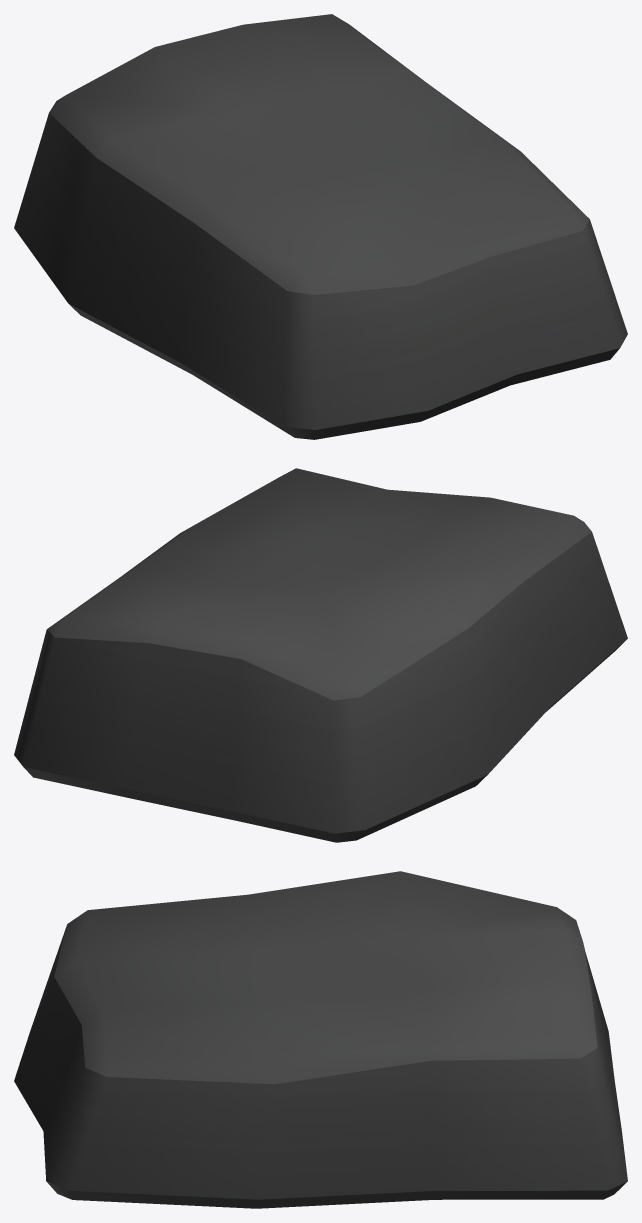
File: StoneBlock_2_3.glb
3 renders of one model, top to bottom at view 1: azimuth 30°, elevation 25°; view 2: azimuth 150°, elevation 25°; view 3: azimuth 270°, elevation 25°, orthographic. The views are drawn at different scales.
Parts seen in each view (by area): view 1: StoneBlock_2_3; view 2: StoneBlock_2_3; view 3: StoneBlock_2_3.
Boxes of the visible parts, <box> form: StoneBlock_2_3: <box>14,14,627,439</box>; StoneBlock_2_3: <box>14,468,627,842</box>; StoneBlock_2_3: <box>14,871,627,1208</box>.
Bounding box in the file's own units: 0.6038 × 0.2442 × 0.8012.
1 material, 1 textured.
